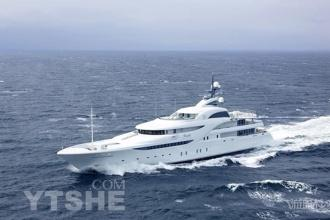yacht: (55, 71, 273, 177)
